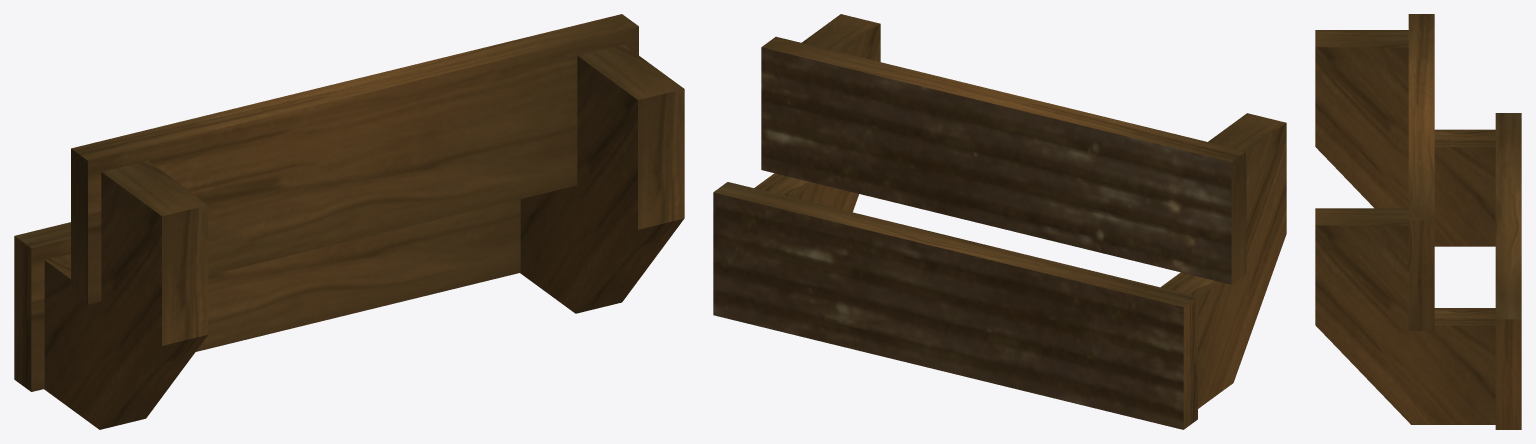
The model's file is Stairs_C.fbx.
The picture shows the model from 3 angles, left to right: view 1: azimuth 30°, elevation 25°; view 2: azimuth 150°, elevation 25°; view 3: azimuth 270°, elevation 25°; orthographic projection. The views are drawn at different scales.
Visible parts, largest first — view 1: Stairs_C; view 2: Stairs_C; view 3: Stairs_C.
Part boxes in pixels (bbox=[...]): Stairs_C: bbox=[14, 14, 684, 429]; Stairs_C: bbox=[713, 14, 1286, 429]; Stairs_C: bbox=[1315, 14, 1521, 429].
Bounding box in the file's own units: 19.8 × 9.39 × 8.35.
